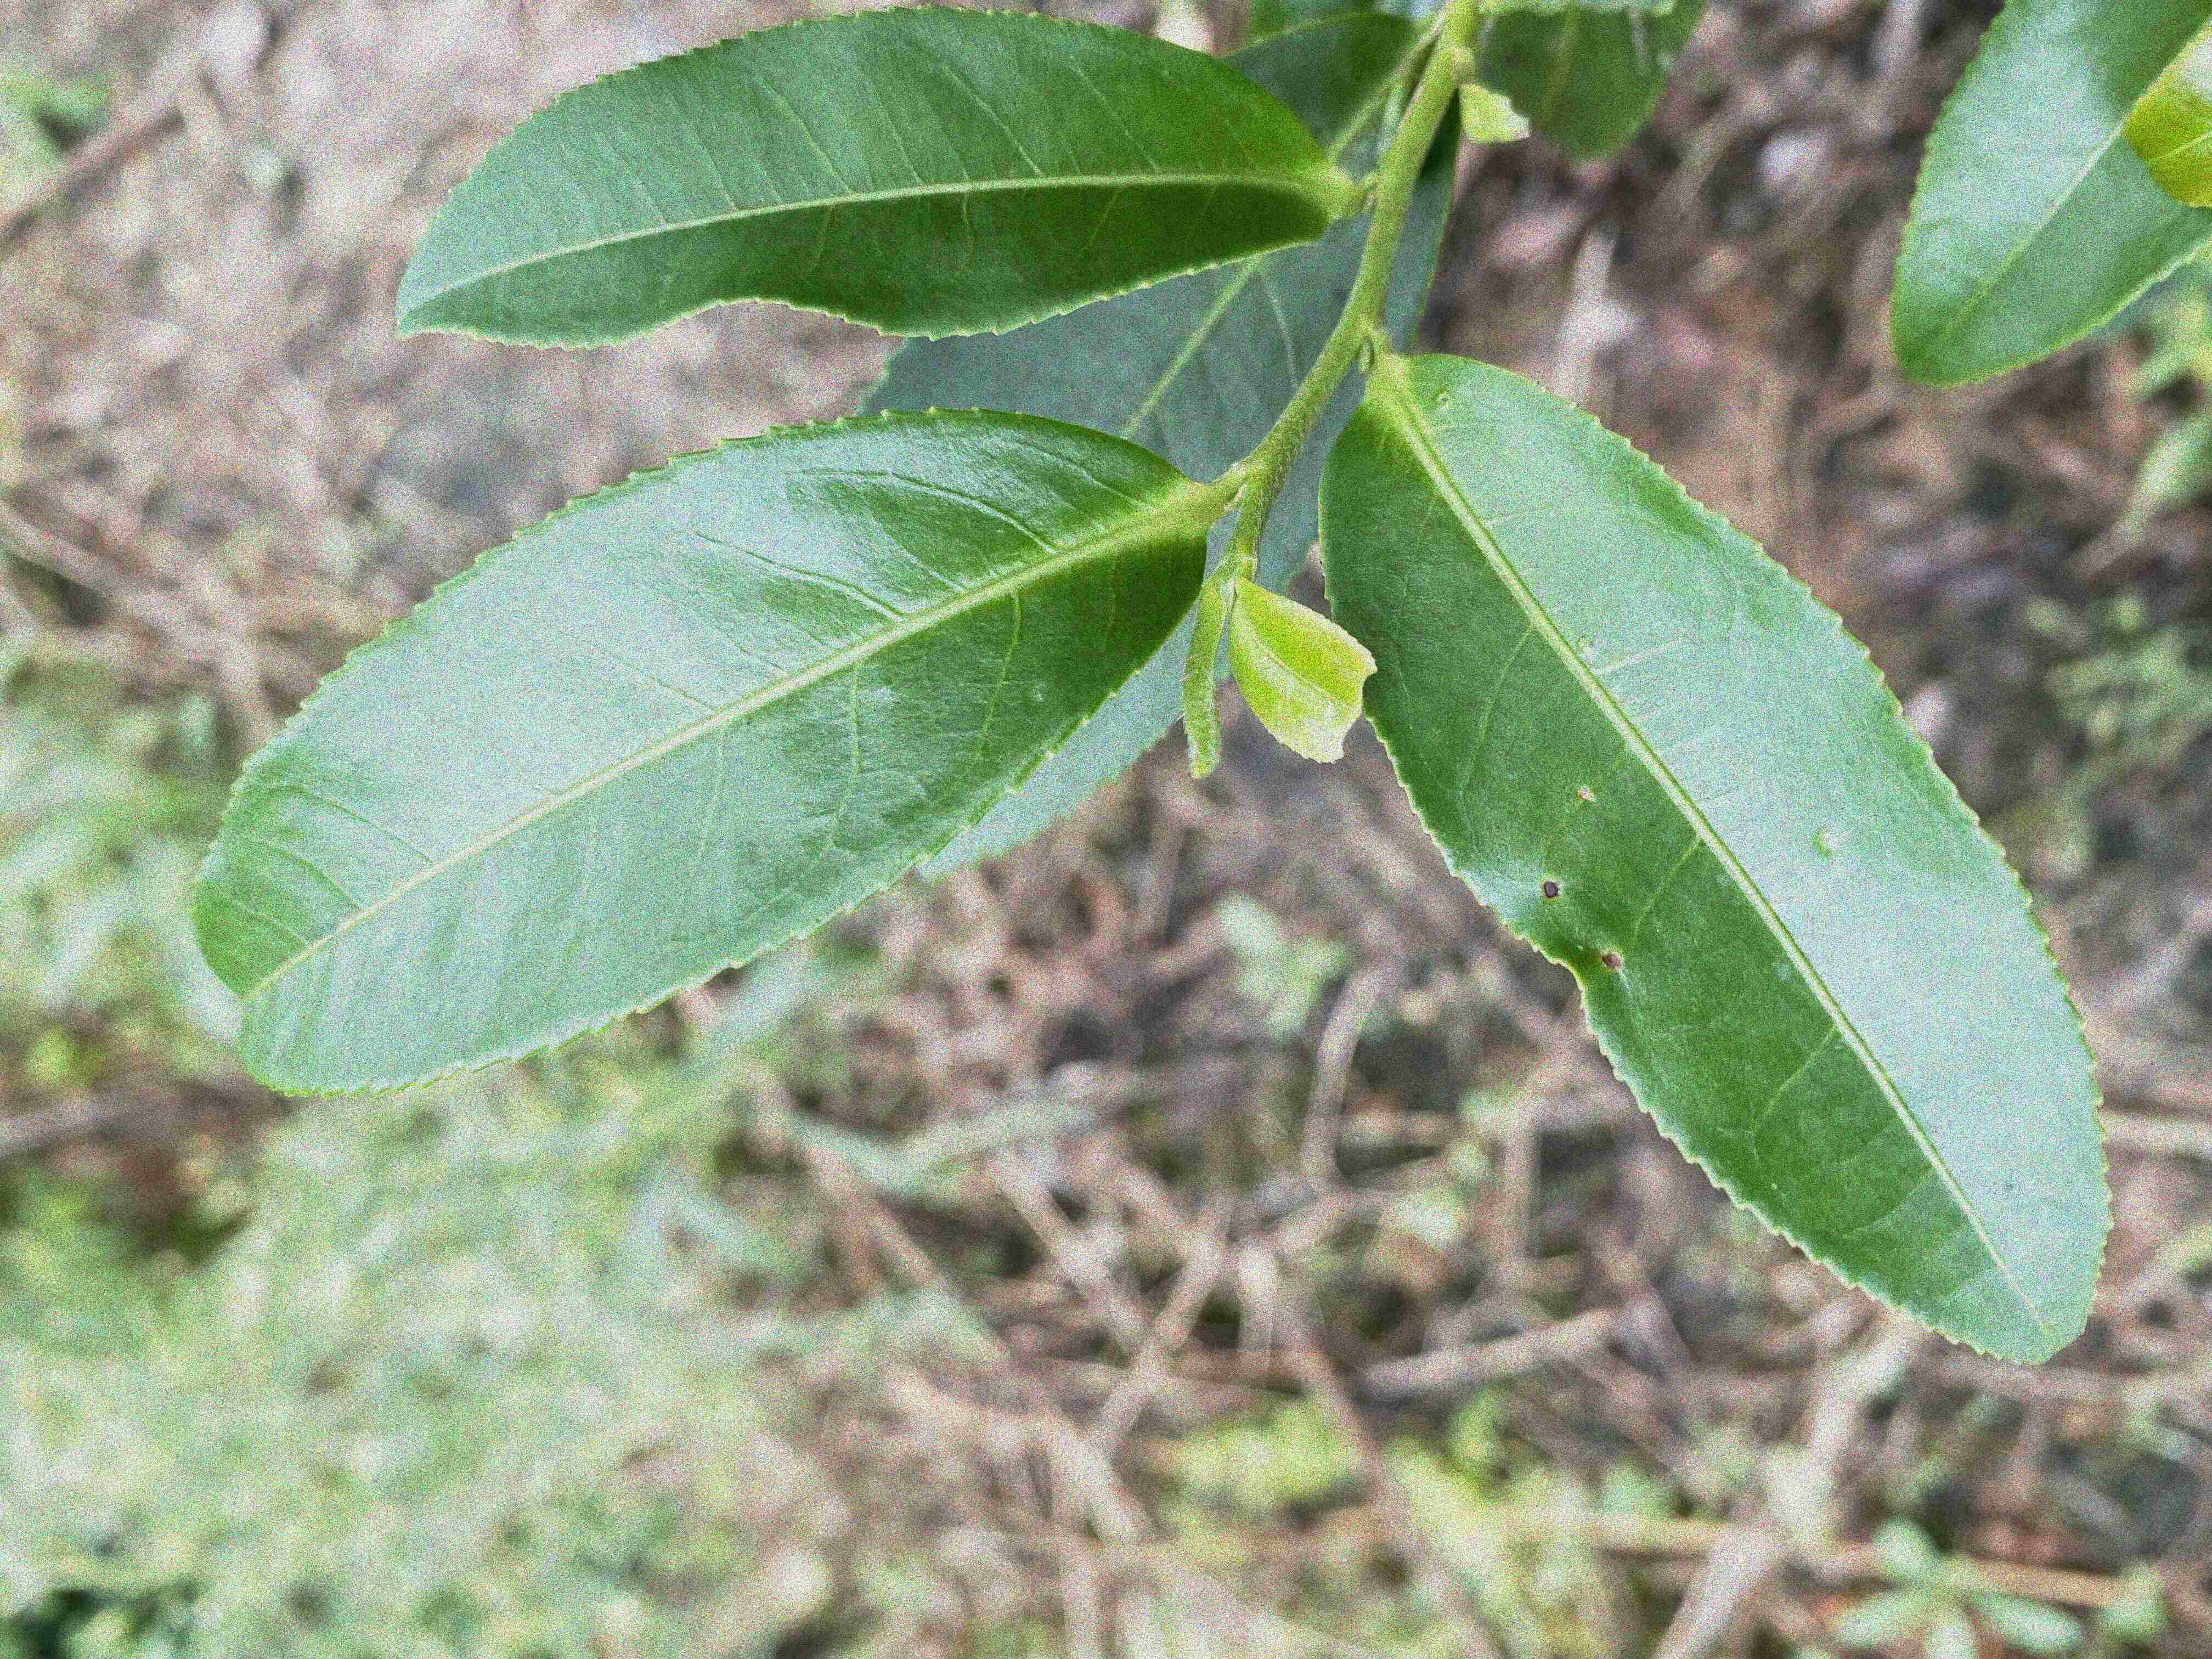chihuo_high: (1231, 575, 1376, 767)
healthy: (188, 403, 1205, 1100), (390, 2, 1343, 350), (1888, 5, 2209, 389)
tanju_low: (1318, 350, 2116, 1368), (2125, 24, 2209, 209)
